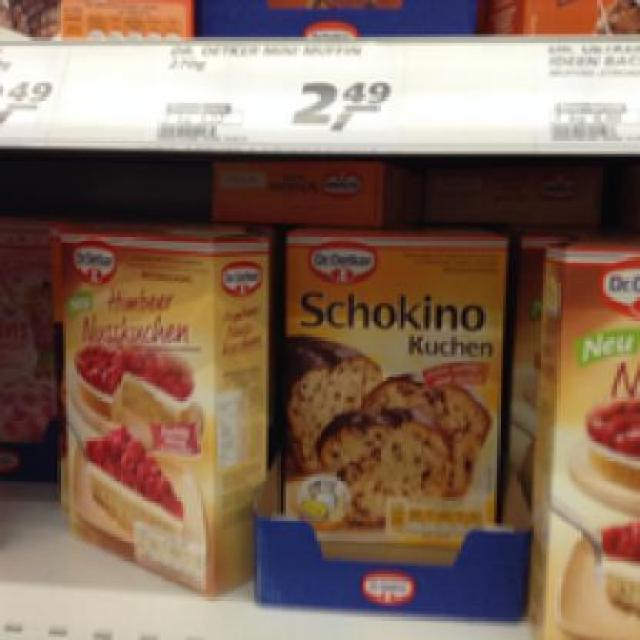Cake: (52, 219, 274, 592), (279, 225, 512, 546)
